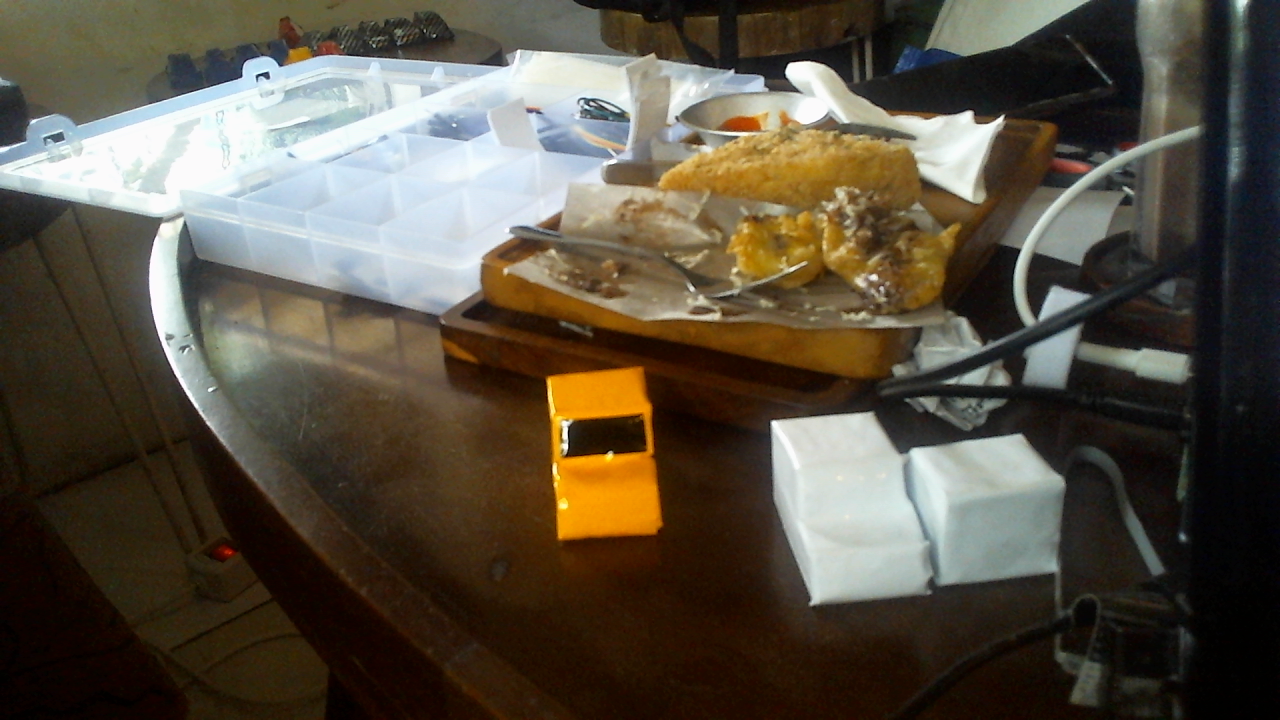Kijang Kapsul: (502, 344, 700, 559)
